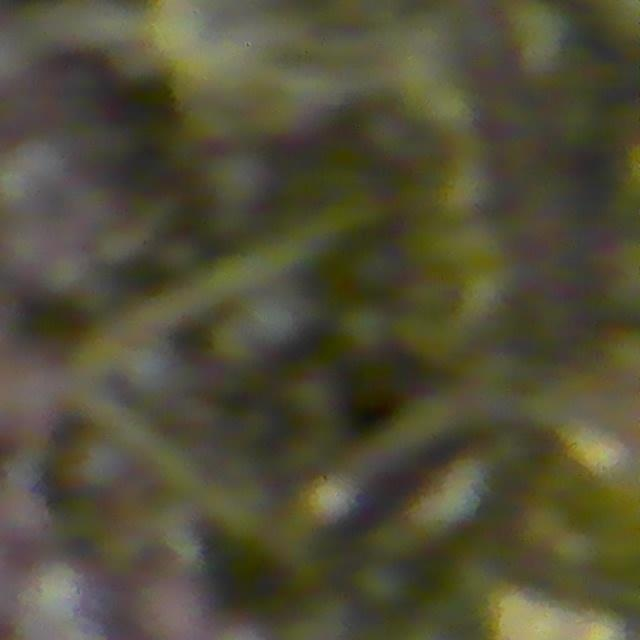SeaGrape: (128, 573, 202, 640), (9, 365, 70, 429)
